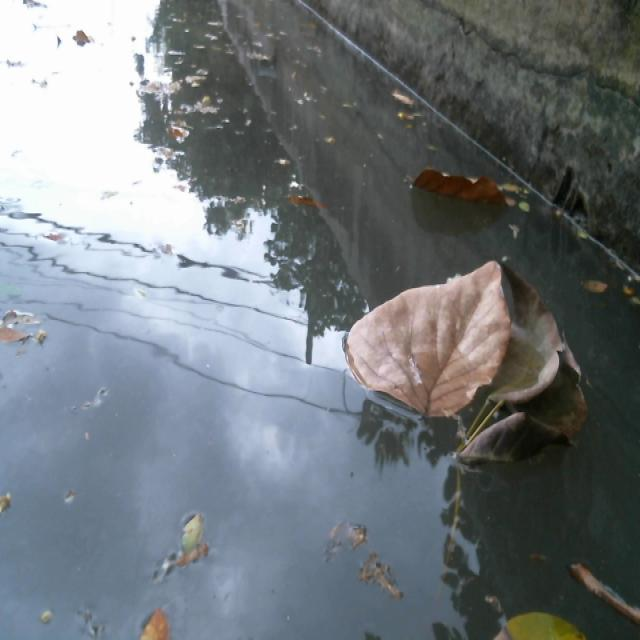Big-leaf: (332, 253, 582, 481), (414, 144, 507, 215)
Small-leaf: (153, 515, 222, 577), (486, 603, 595, 640), (0, 302, 55, 358), (389, 80, 430, 135), (288, 177, 325, 219), (590, 276, 625, 307), (137, 616, 178, 640), (519, 198, 538, 216)
